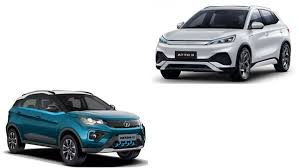Tata Nexon: (6, 90, 146, 166)
